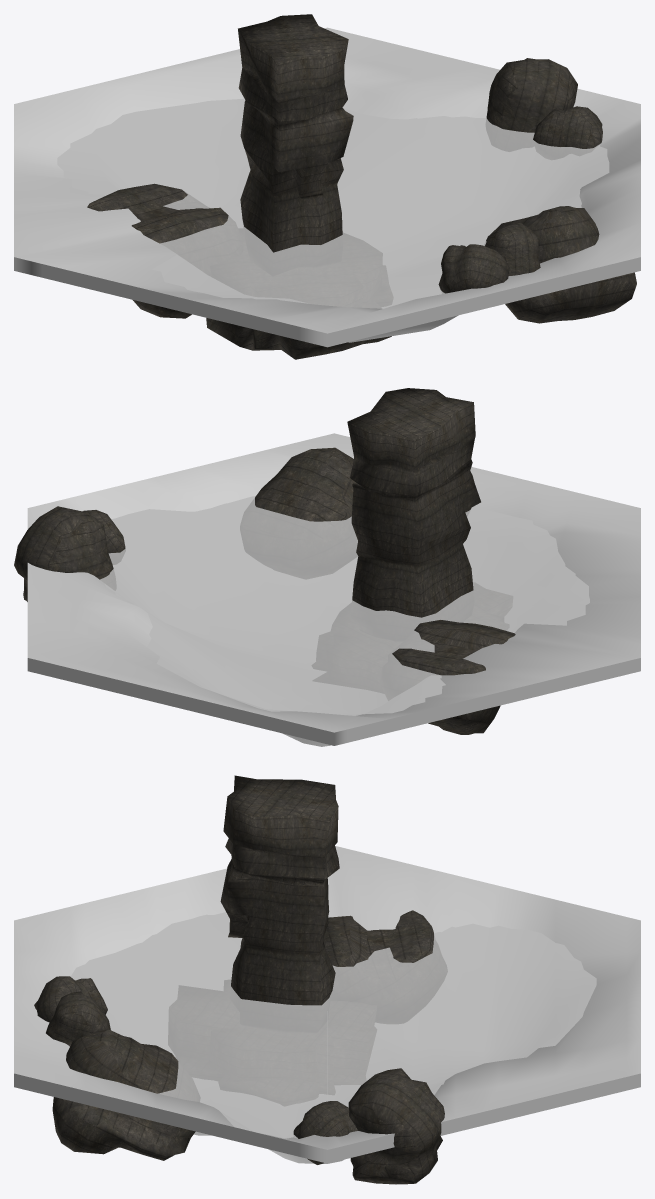
The model's file is rockyPond_hex_06.fbx.
The picture shows the model from 3 angles, top to bottom: view 1: azimuth 30°, elevation 25°; view 2: azimuth 150°, elevation 25°; view 3: azimuth 270°, elevation 25°; orthographic projection. The views are drawn at different scales.
Parts seen in each view (by area): view 1: pCylinder2; view 2: pCylinder2; view 3: pCylinder2.
Part boxes in pixels (x1,y1,x2,y2): pCylinder2: (14,14,640,359); pCylinder2: (14,388,640,746); pCylinder2: (14,775,640,1184).
Size of the model in its own units: 61.53 by 26.64 by 53.28.
